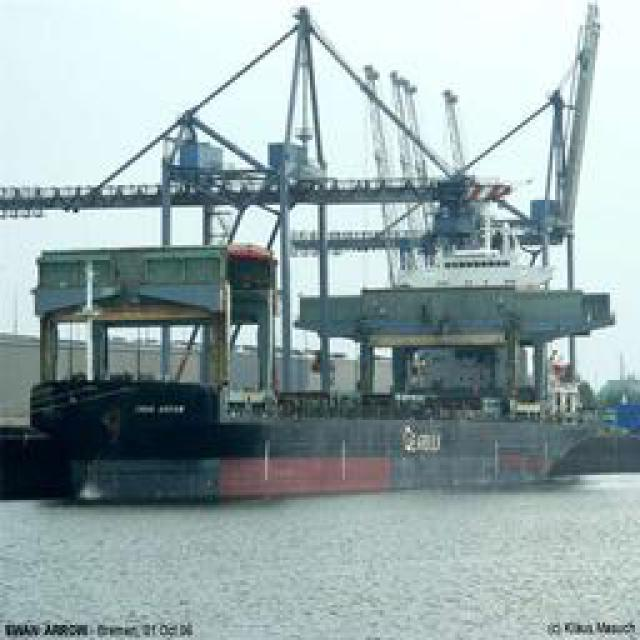Ship: (21, 1, 629, 499)
